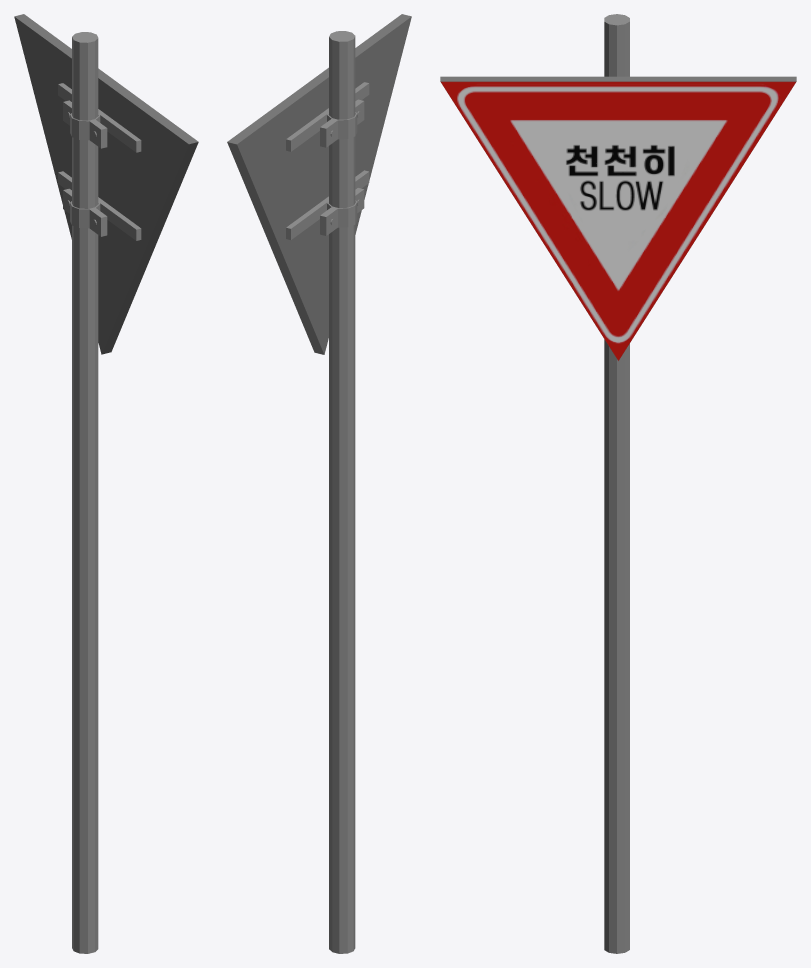
Rendered from obj_sign_7.fbx.
3 views of the same model, side by side, from view 1: azimuth 30°, elevation 25°; view 2: azimuth 150°, elevation 25°; view 3: azimuth 270°, elevation 25° (orthographic).
Parts seen in each view (by area): view 1: obj_sign_7; view 2: obj_sign_7; view 3: obj_sign_7.
Boxes of the visible parts, x1,y1,x2,y2 form: obj_sign_7: (14, 14, 198, 953); obj_sign_7: (227, 14, 411, 953); obj_sign_7: (440, 14, 796, 953).
Size of the model in its own units: 0.1099 by 2.39 by 0.8304.
1 material, 1 textured.
